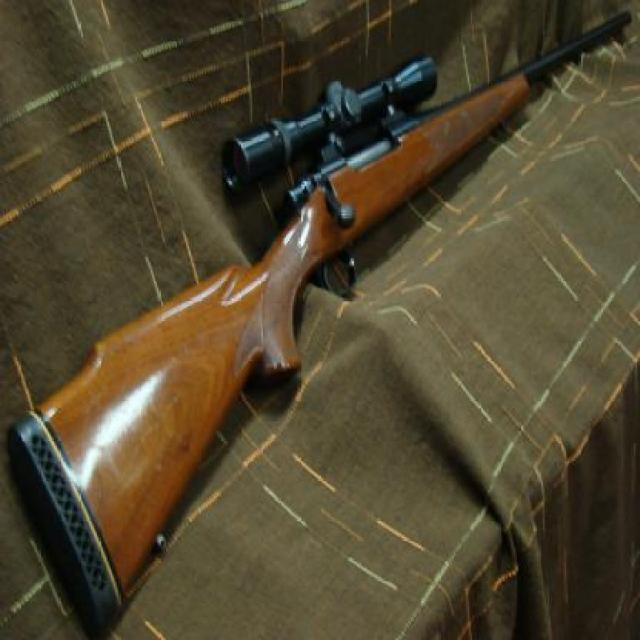weapon: (41, 0, 637, 625)
